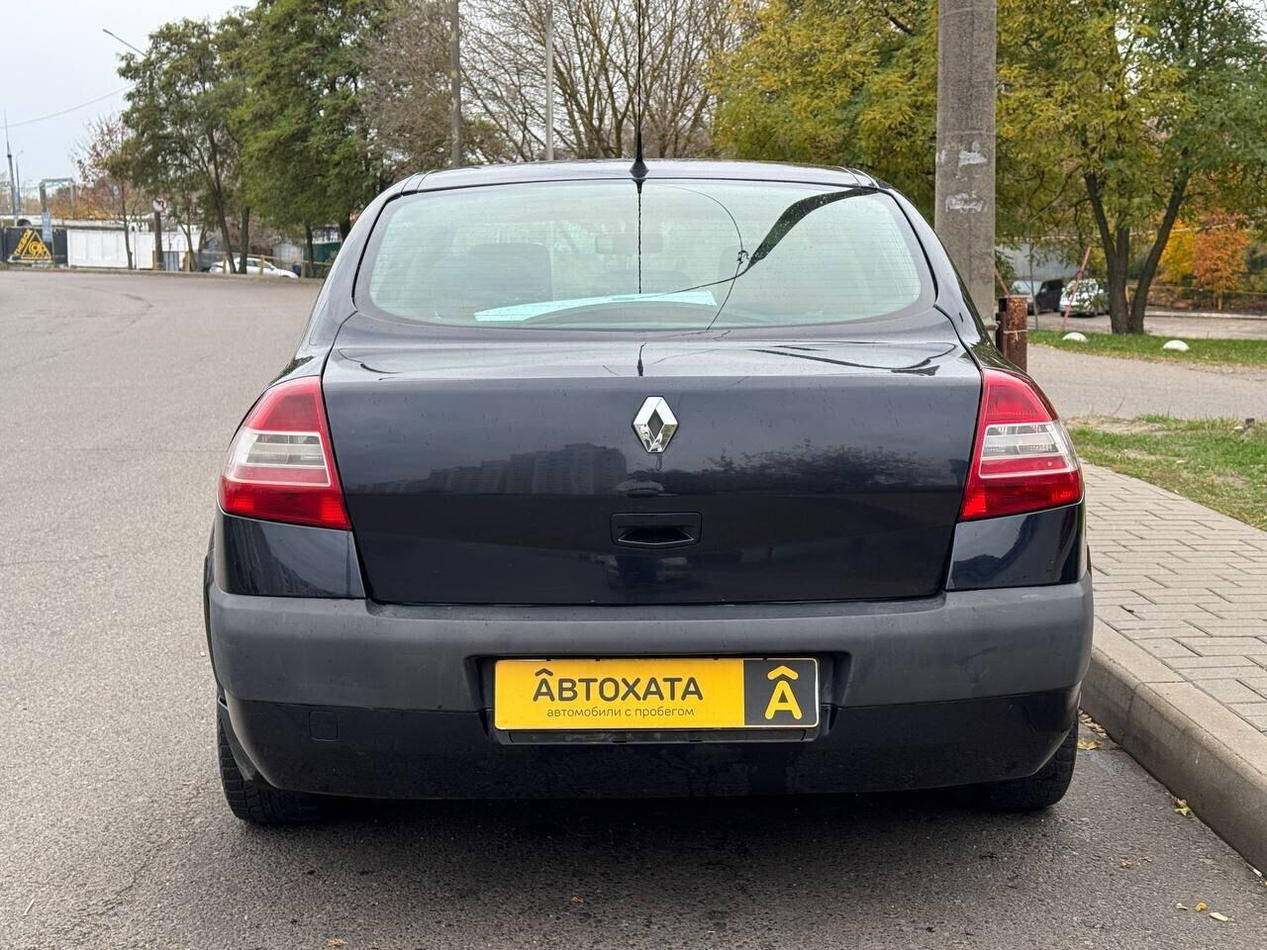Megane_2005-2009: (200, 143, 1104, 818)
